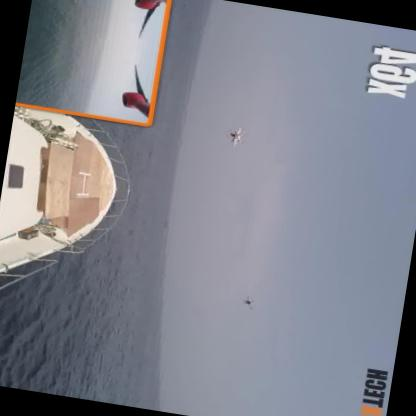drone: (223, 122, 249, 149)
